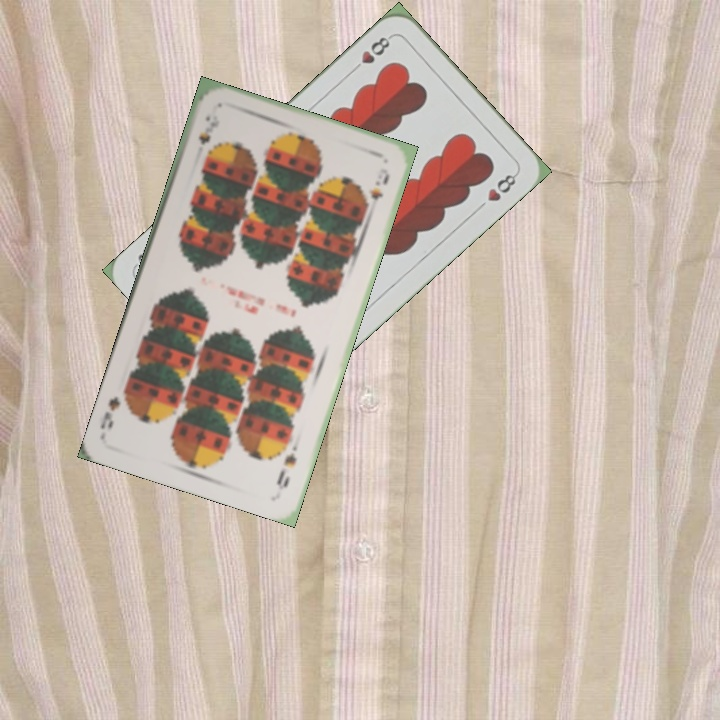H8: (347, 31, 394, 76)
S9: (272, 448, 300, 491), (194, 111, 222, 147)
